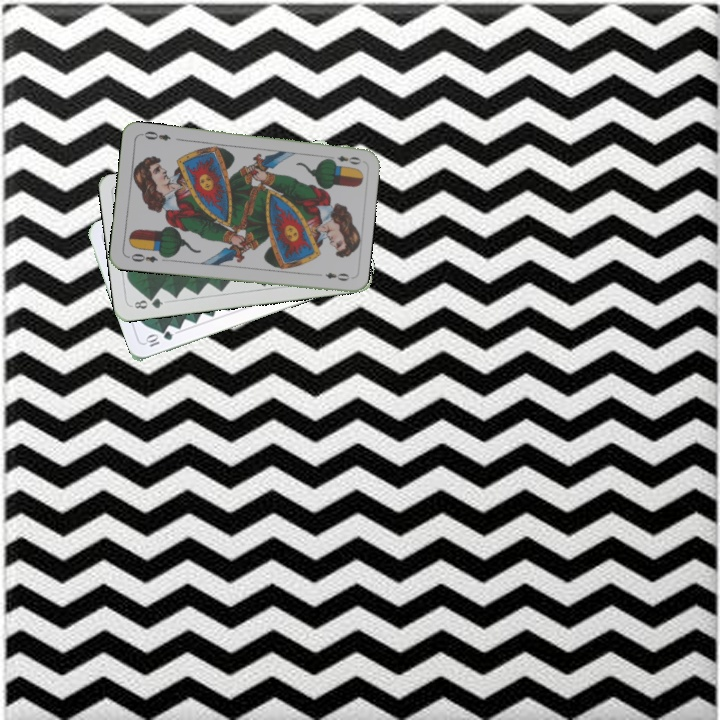EO: (324, 152, 363, 167), (124, 249, 160, 265)
G10: (142, 327, 175, 350)
G8: (130, 294, 166, 312)
